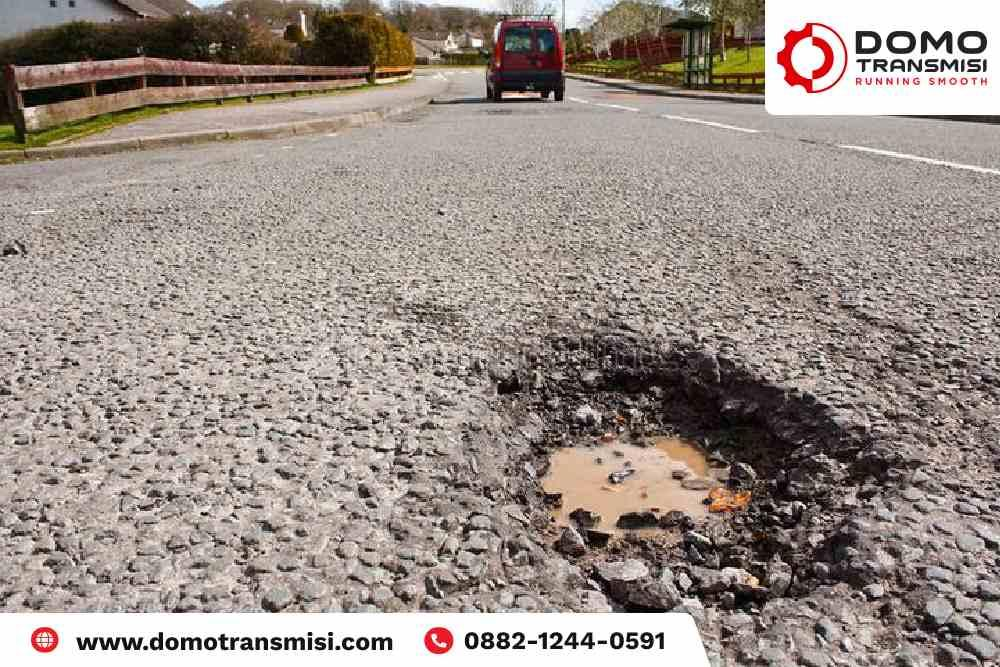Pothole: (446, 325, 904, 605)
